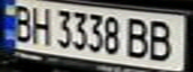3: (51, 7, 75, 48), (84, 10, 106, 54), (69, 9, 87, 52)
8: (103, 12, 127, 56)
B: (145, 17, 181, 63), (124, 15, 154, 60), (6, 1, 36, 43)
H: (27, 2, 54, 46)
